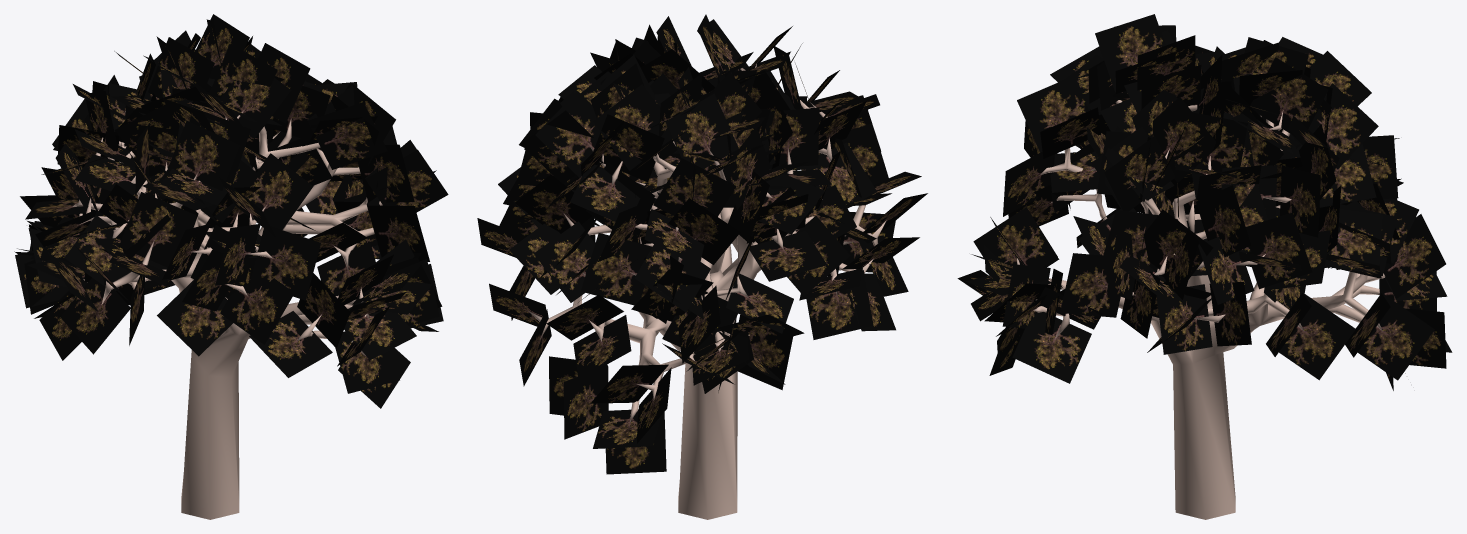
File: tree1.glb
The picture shows the model from 3 angles, left to right: view 1: azimuth 30°, elevation 25°; view 2: azimuth 150°, elevation 25°; view 3: azimuth 270°, elevation 25°; orthographic projection. The views are drawn at different scales.
Bounding box in the file's own units: 6.11 × 7.23 × 6.79.
Materials: 2 (1 with a texture image).
